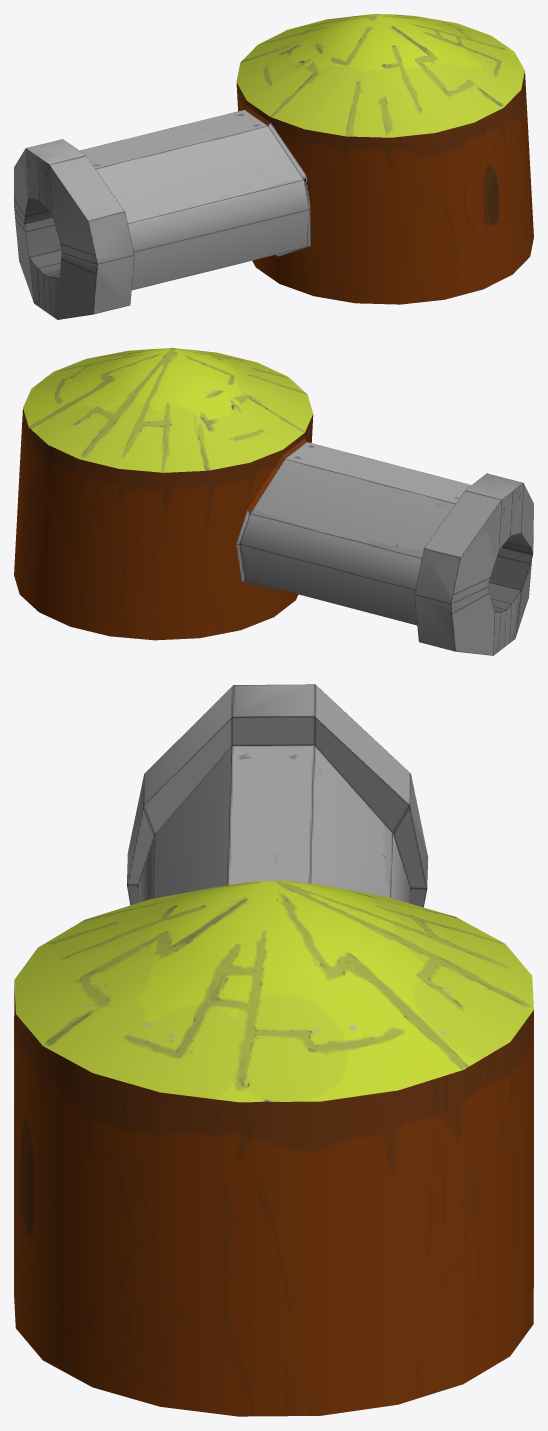
The model's file is Gun Head Yellow.fbx.
3 views of the same model, one above another, from view 1: azimuth 30°, elevation 25°; view 2: azimuth 150°, elevation 25°; view 3: azimuth 270°, elevation 25° (orthographic). The views are drawn at different scales.
Parts seen in each view (by area): view 1: pPlane2; view 2: pPlane2; view 3: pPlane2.
Boxes of the visible parts, <box> form: pPlane2: <box>14,14,533,319</box>; pPlane2: <box>14,348,533,655</box>; pPlane2: <box>14,684,533,1416</box>.
Bounding box in the file's own units: 11.54 × 5.36 × 6.02.
Materials: 1 (1 with a texture image).
